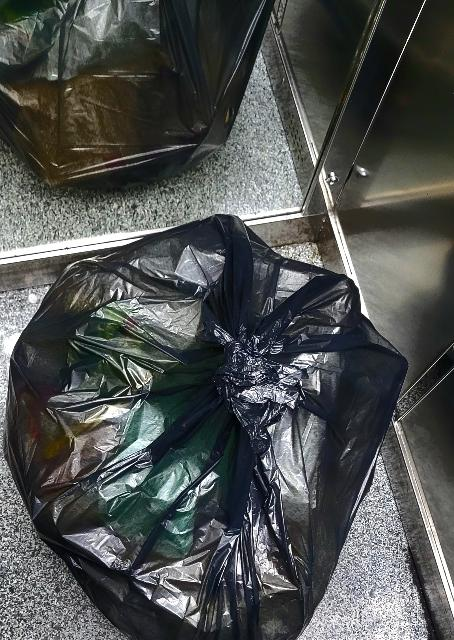Plastik: (3, 215, 417, 640)
